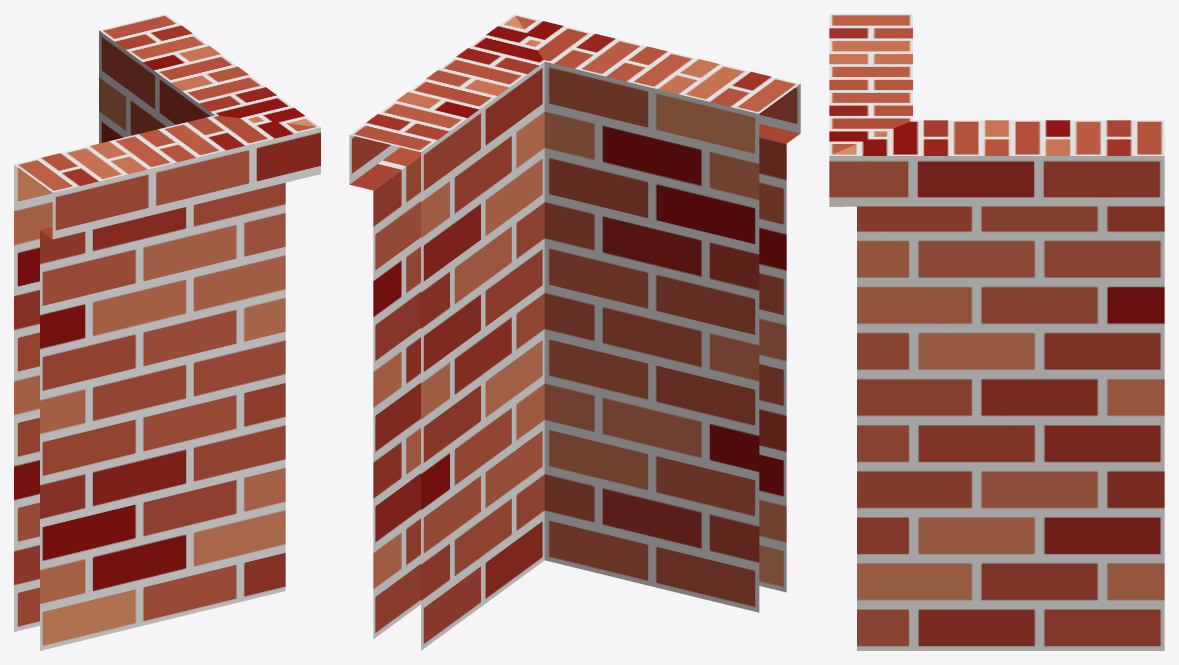
File: Wall_Corner_Open.fbx
3 views of the same model, side by side, from view 1: azimuth 30°, elevation 25°; view 2: azimuth 150°, elevation 25°; view 3: azimuth 270°, elevation 25° (orthographic). The views are drawn at different scales.
Visible parts, largest first — view 1: Wall_Corner_Open; view 2: Wall_Corner_Open; view 3: Wall_Corner_Open.
Boxes of the visible parts, left/top/right/bottom form: Wall_Corner_Open: left=14, top=14, right=320, bottom=650; Wall_Corner_Open: left=349, top=14, right=800, bottom=650; Wall_Corner_Open: left=829, top=14, right=1164, bottom=650.
Size of the model in its own units: 120 by 200 by 120.
